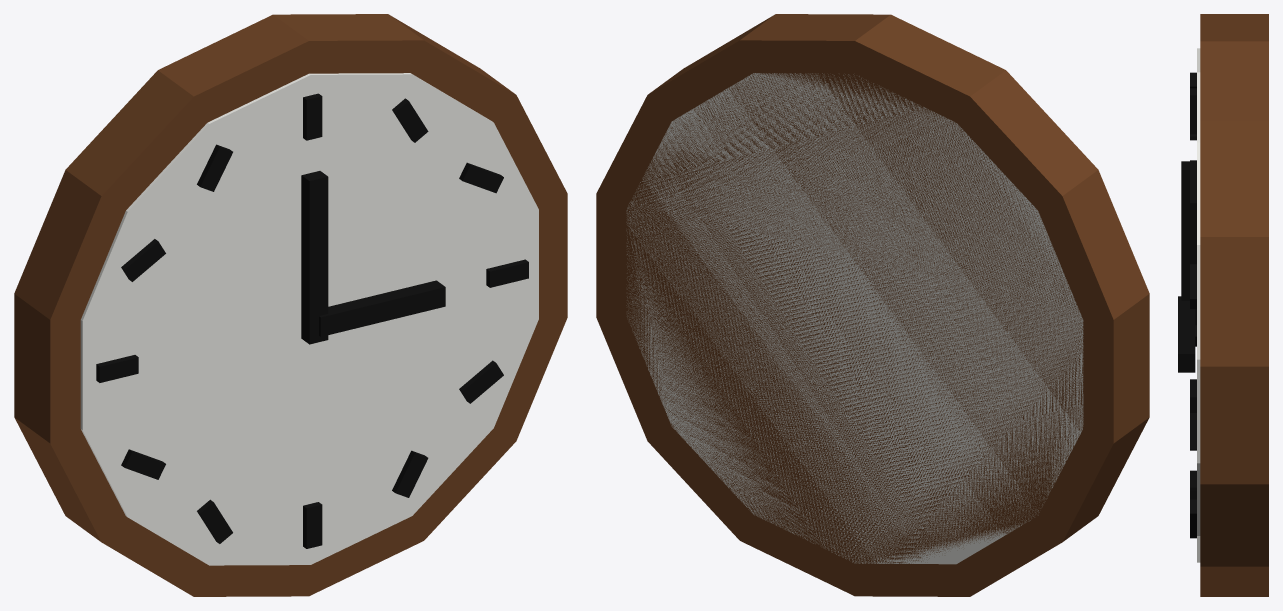
Rendered from wall_clock.glb.
3 views of the same model, side by side, from view 1: azimuth 30°, elevation 25°; view 2: azimuth 150°, elevation 25°; view 3: azimuth 270°, elevation 25° (orthographic). The views are drawn at different scales.
Parts seen in each view (by area): view 1: wall_clock; view 2: wall_clock; view 3: wall_clock.
Part boxes in pixels (box(x1,y1,x2,y2)): wall_clock: box(14, 14, 567, 596); wall_clock: box(596, 14, 1149, 596); wall_clock: box(1178, 14, 1268, 596).
Size of the model in its own units: 0.3315 by 0.34 by 0.053.
